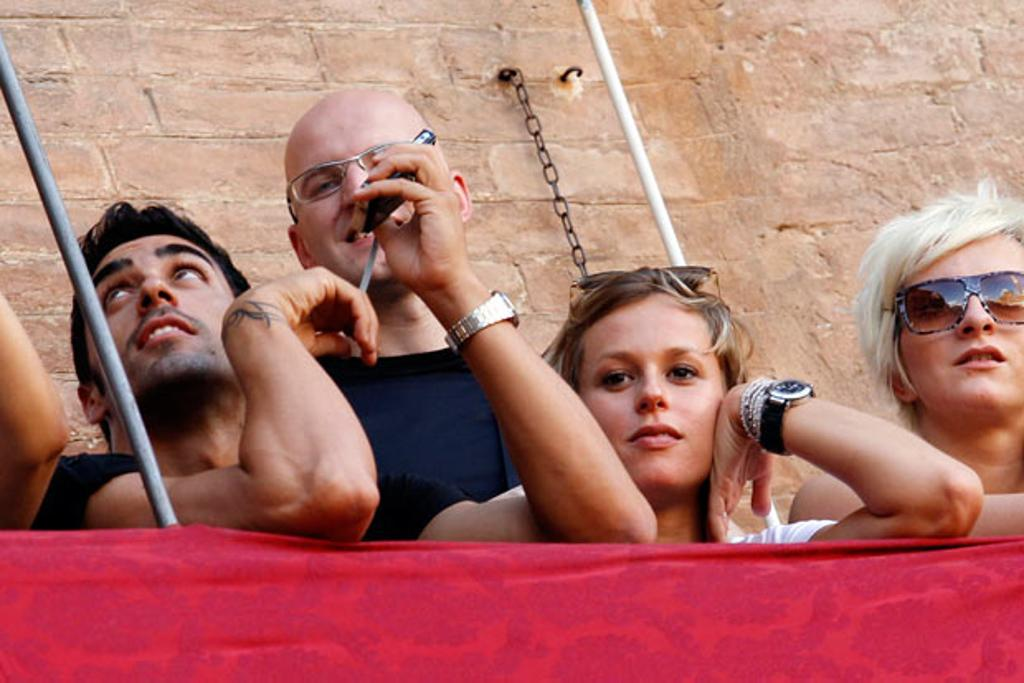face: (292, 108, 436, 280), (584, 312, 720, 494), (82, 230, 228, 384), (902, 226, 1022, 406)
